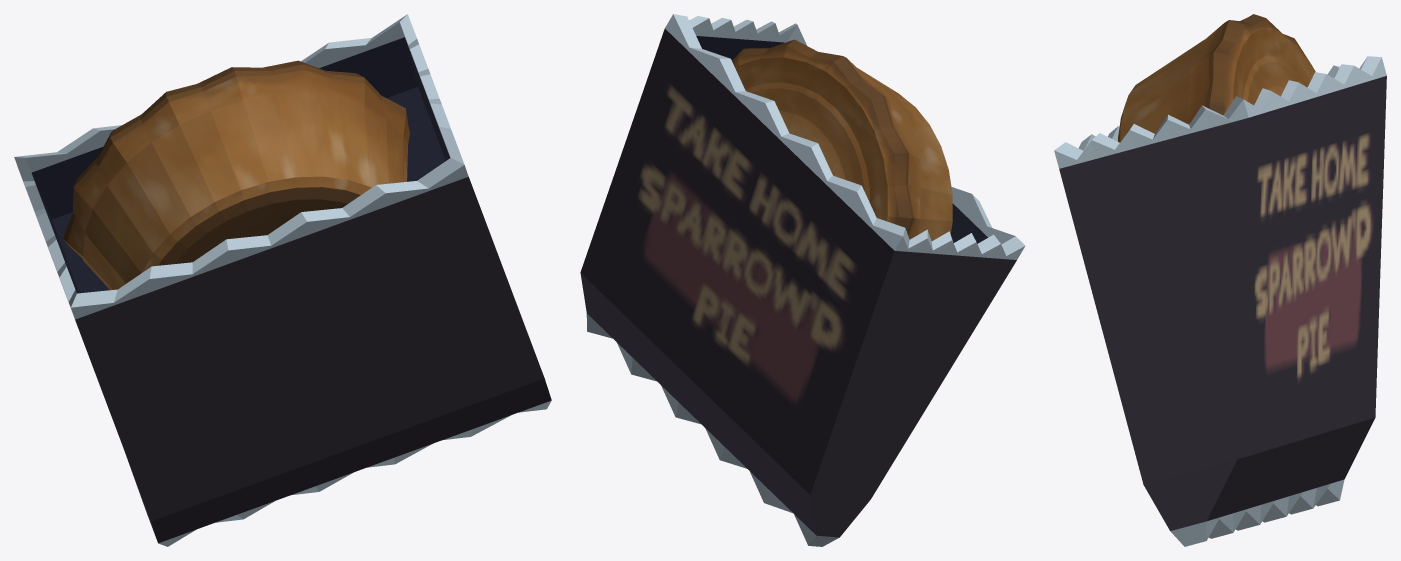
File: SeasonsGriftings.TakeHome.SparrowdPie.fbx
3 renders of one model, left to right at view 1: azimuth 30°, elevation 25°; view 2: azimuth 150°, elevation 25°; view 3: azimuth 270°, elevation 25°, orthographic. The views are drawn at different scales.
Visible parts, largest first — view 1: TakeHome.SparrowdPie; view 2: TakeHome.SparrowdPie; view 3: TakeHome.SparrowdPie.
Boxes of the visible parts, bbox=[...] form: TakeHome.SparrowdPie: bbox=[14, 14, 551, 546]; TakeHome.SparrowdPie: bbox=[580, 14, 1025, 546]; TakeHome.SparrowdPie: bbox=[1054, 14, 1386, 546].
Bounding box in the file's own units: 60.15 × 61.57 × 36.81.
